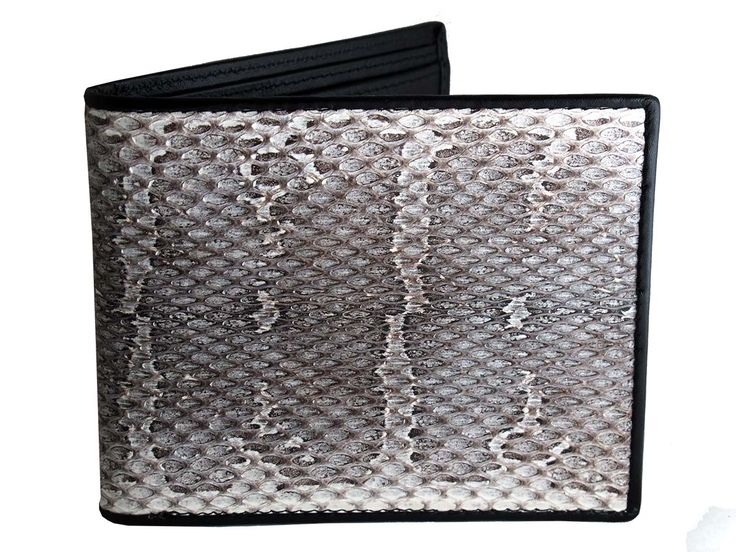monedero: (82, 20, 664, 532)
